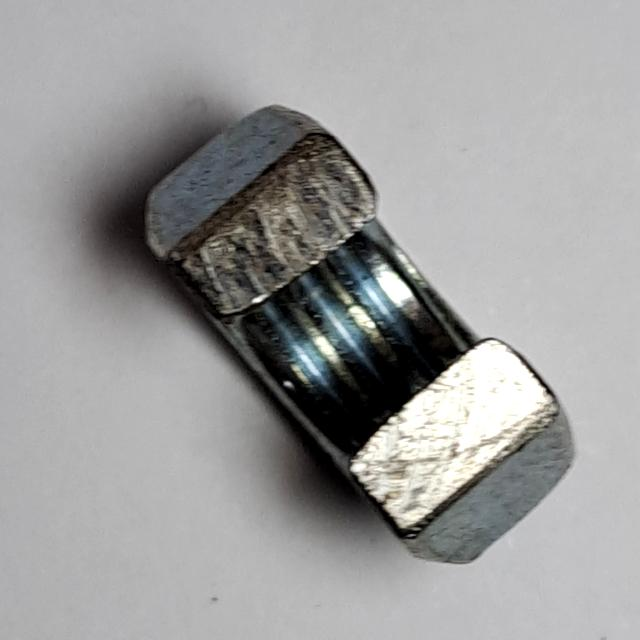Side-Fracture: (139, 96, 588, 582)
